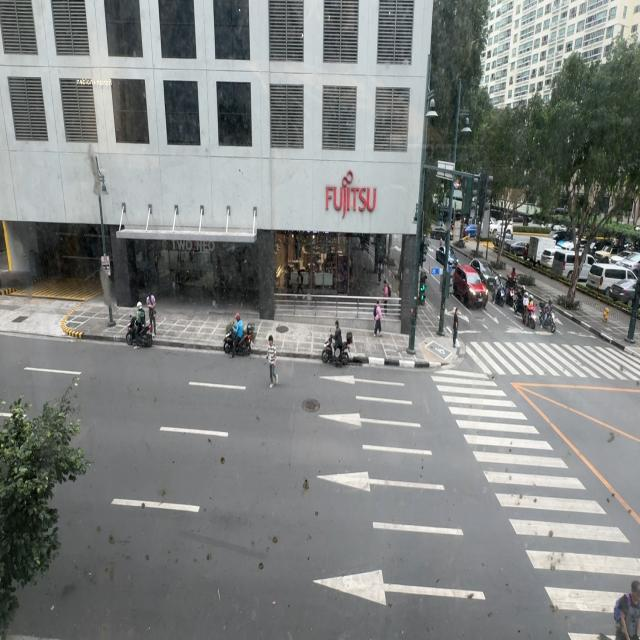crossing: (613, 578, 639, 634)
jaywalking: (265, 335, 277, 387)
pedestrain: (374, 300, 384, 336)
waiting: (452, 308, 460, 347)
